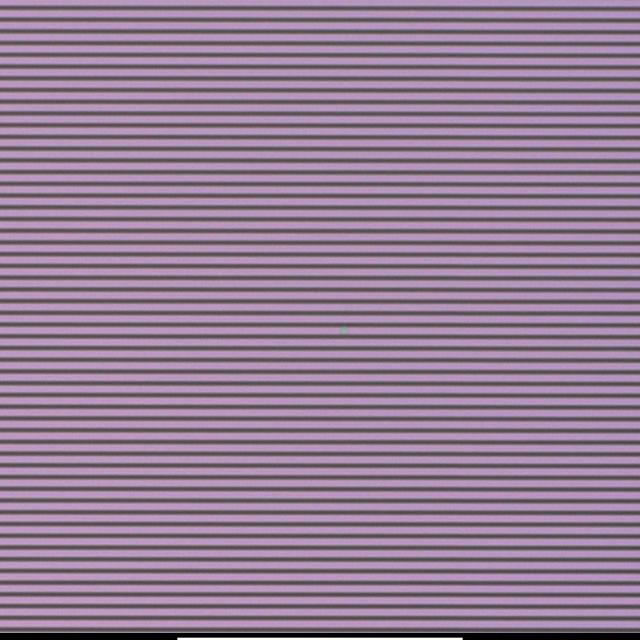03_intrusion: (338, 318, 353, 339)
